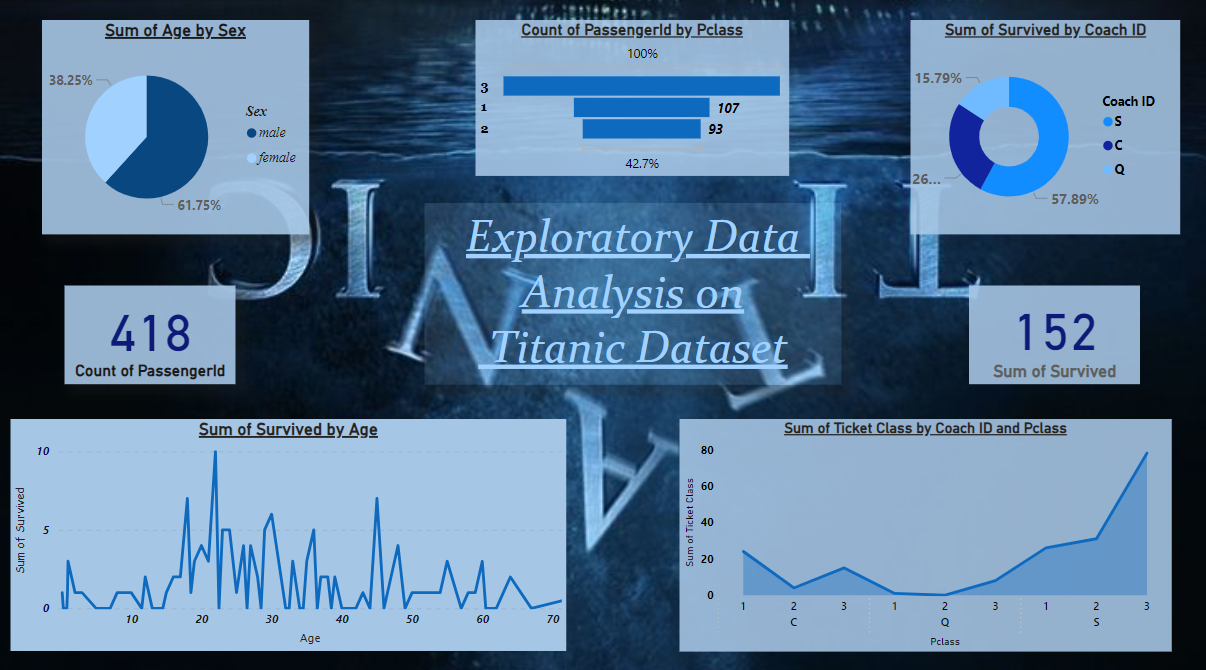

This screenshot's page, from the dashboard's own definition file:
{"tool":"powerbi","page":{"name":"Page 1","canvas":[1280,720],"ordinal":0},"visuals":[{"type":"lineChart","fields":{"Y":["Sum(data1.Survived)"],"Category":["data2.Age"]},"box":[11.3,448.5,589.4,246.1],"z":0},{"type":"pieChart","fields":{"Category":["data2.Sex"],"Y":["Sum(data2.Age)"]},"box":[44.5,25.4,283.1,227.5],"z":1000},{"type":"funnel","fields":{"Category":["data2.Pclass"],"Y":["CountNonNull(data2.PassengerId)"]},"box":[504.2,25.4,332.4,165.4],"z":2000},{"type":"lineChart","fields":{"Category":["data2.Coach ID","data2.Pclass"],"Y":["Sum(data2.Ticket Class)"]},"box":[720.5,448.6,521.7,246.5],"z":3000},{"type":"donutChart","fields":{"Y":["Sum(data1.Survived)"],"Category":["data2.Coach ID"]},"box":[965,25.4,286.3,227.5],"z":4000},{"type":"card","fields":{"Values":["CountNonNull(data1.PassengerId)"]},"box":[68.4,307,181.3,105],"z":5000},{"type":"card","fields":{"Values":["Sum(data1.Survived)"]},"box":[1027.5,307,181.3,105],"z":6000},{"type":"textbox","box":[450.1,219.5,442.2,192.5],"z":7000}]}

Visuals, with their boxes in screenshot pixels (x1, y1, x2, y2), scaled from the page's 1280x720 canvas onto the 1206x670 screenshot:
lineChart - Sum(data1.Survived) x data2.Age: box=[11, 417, 566, 646]
pieChart - data2.Sex x Sum(data2.Age): box=[42, 24, 309, 235]
funnel - data2.Pclass x CountNonNull(data2.PassengerId): box=[475, 24, 788, 178]
lineChart - data2.Coach ID x data2.Pclass: box=[679, 417, 1170, 647]
donutChart - Sum(data1.Survived) x data2.Coach ID: box=[909, 24, 1179, 235]
card - CountNonNull(data1.PassengerId): box=[64, 286, 235, 383]
card - Sum(data1.Survived): box=[968, 286, 1139, 383]
textbox: box=[424, 204, 841, 383]
